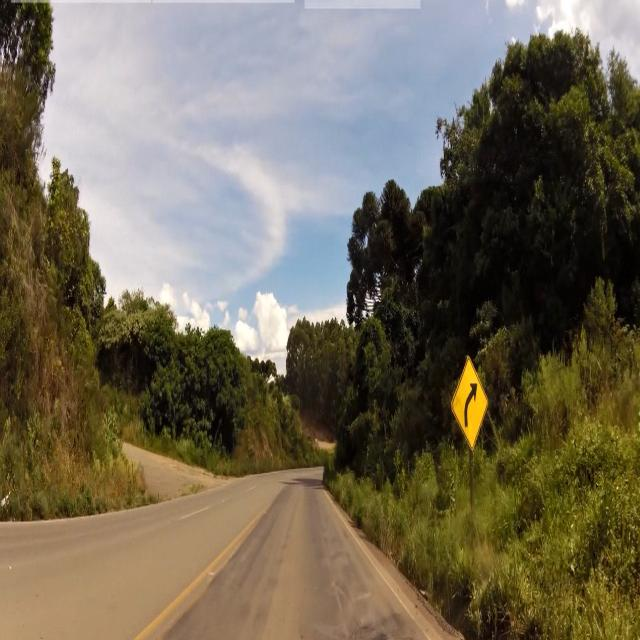A-2b: (451, 356, 490, 447)
